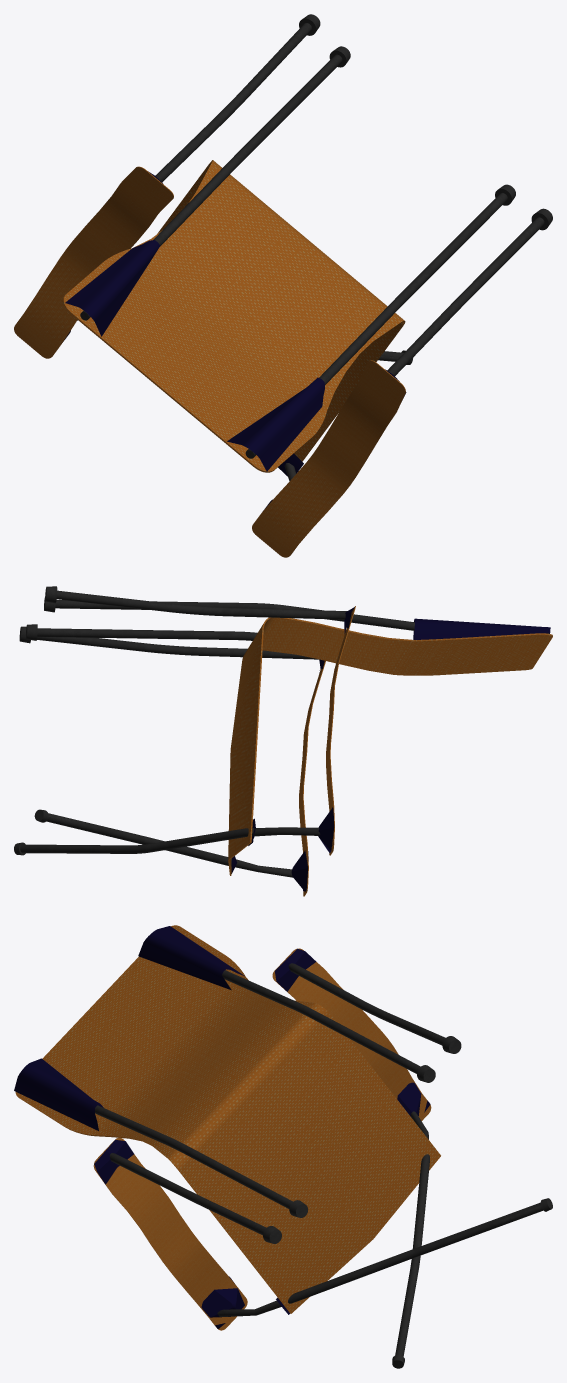
Rendered from chair 1.fbx.
The picture shows the model from 3 angles, top to bottom: view 1: azimuth 30°, elevation 25°; view 2: azimuth 150°, elevation 25°; view 3: azimuth 270°, elevation 25°; orthographic projection. The views are drawn at different scales.
Parts seen in each view (by area): view 1: Cube.001, Plane, Plane.001, Cylinder, Cylinder.002; view 2: Cube.001, Cylinder.002, Cylinder.001, Cylinder, Plane, Plane.001, Plane.002; view 3: Cube.001, Plane, Plane.001, Cylinder.001, Cylinder, Cylinder.002, Plane.003, Plane.002.
Part boxes in pixels (x1,y1,x2,y2): Cube.001: (62, 160, 405, 472); Plane: (14, 166, 405, 557); Plane.001: (65, 240, 324, 471); Cylinder: (80, 46, 515, 458); Cylinder.002: (155, 14, 552, 375); Cube.001: (228, 617, 552, 875); Cylinder.002: (19, 586, 347, 659); Cylinder.001: (14, 809, 320, 877); Cylinder: (26, 596, 549, 640); Plane: (299, 606, 355, 896); Plane.001: (413, 618, 550, 639); Plane.002: (291, 807, 334, 891); Cube.001: (15, 925, 440, 1313); Plane: (93, 948, 431, 1330); Plane.001: (14, 926, 244, 1130); Cylinder.001: (217, 1111, 552, 1368); Cylinder: (95, 970, 435, 1217); Cylinder.002: (109, 963, 461, 1243); Plane.003: (94, 948, 316, 1184); Plane.002: (201, 1082, 430, 1328).
Size of the model in its own units: 22.38 by 15.98 by 21.73.
Materials: 4 (4 with a texture image).
